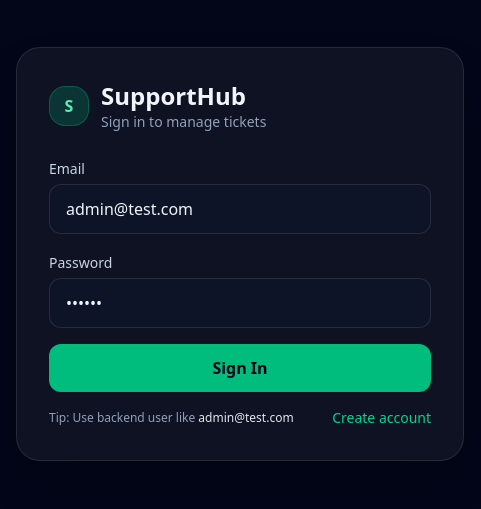
Test: Login › shows error message when login fails
Click the button "Sign In" at (240, 368), box [49,344,431,392]
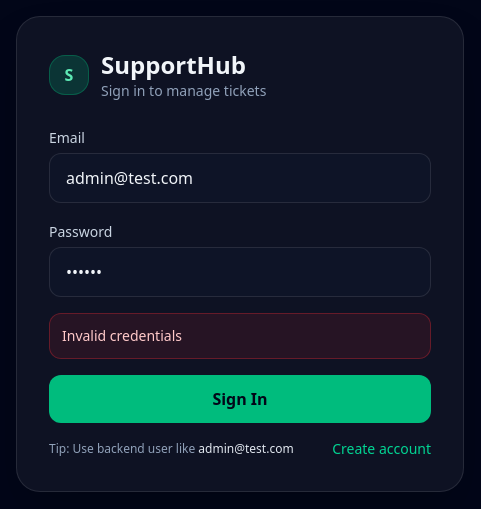
Check: the text "Invalid credentials" is shown, box [49,313,431,359]
